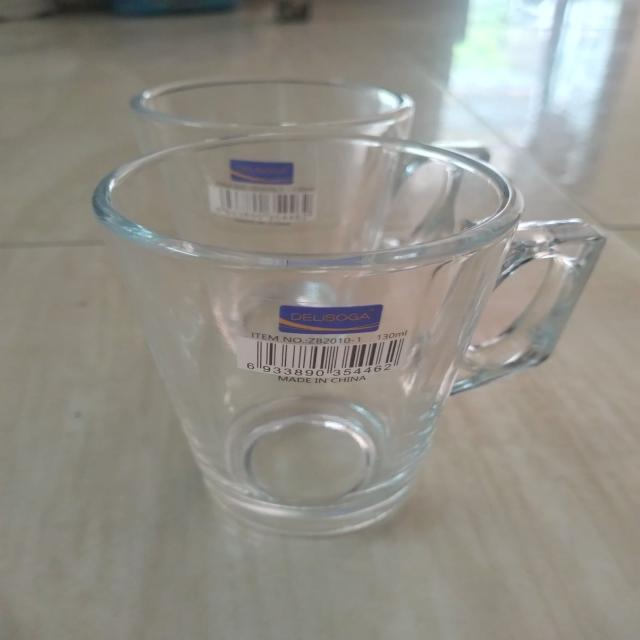glass-VX4N: (95, 158, 597, 540), (129, 79, 493, 367)
